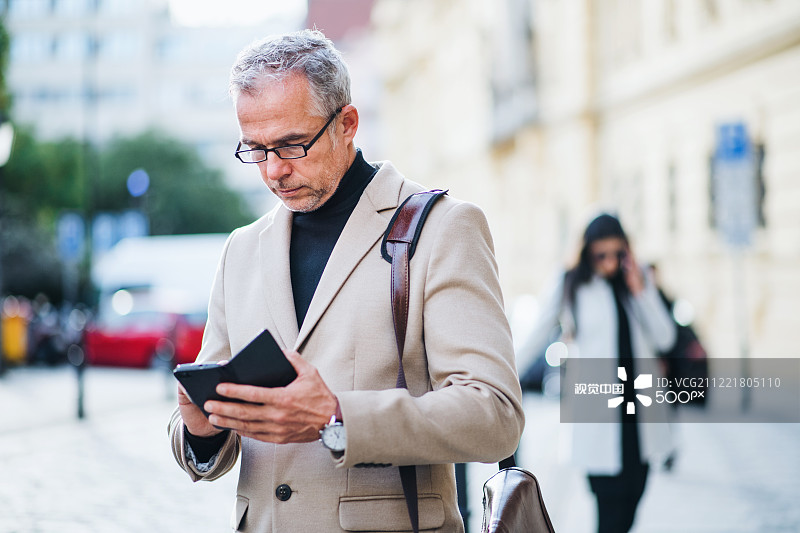reading: (157, 327, 343, 466)
